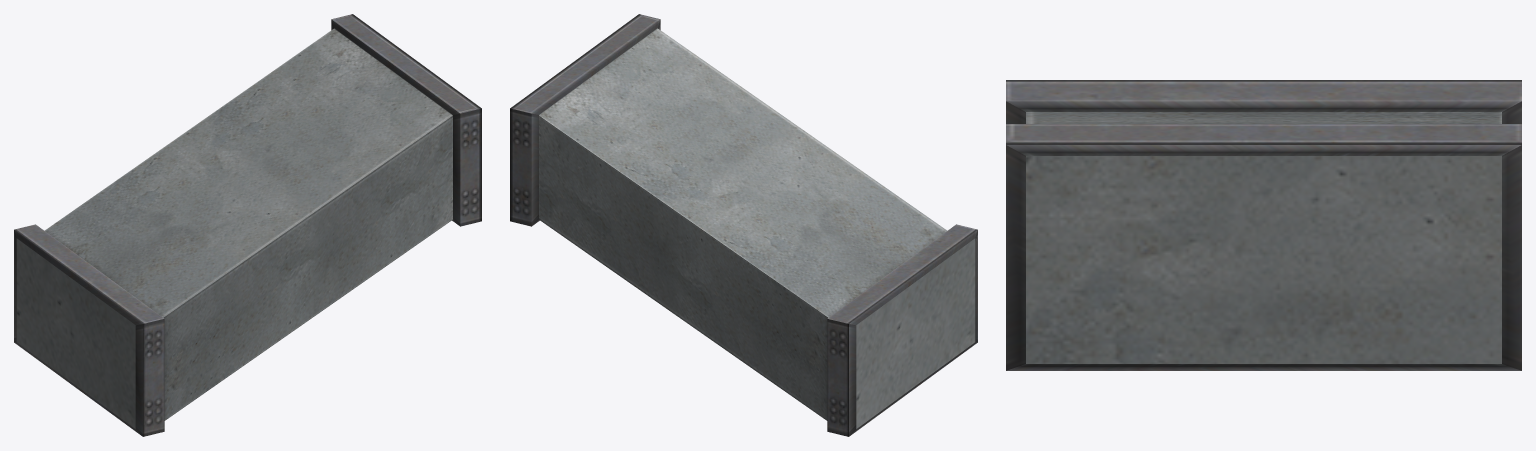
Rendered from Ventilation_pipe_E.FBX.
The picture shows the model from 3 angles, left to right: view 1: azimuth 30°, elevation 25°; view 2: azimuth 150°, elevation 25°; view 3: azimuth 270°, elevation 25°; orthographic projection. The views are drawn at different scales.
Visible parts, largest first — view 1: Ventilation_pipe_E; view 2: Ventilation_pipe_E; view 3: Ventilation_pipe_E.
Part boxes in pixels (<box>): Ventilation_pipe_E: <box>14,14,481,436</box>; Ventilation_pipe_E: <box>510,14,977,436</box>; Ventilation_pipe_E: <box>1006,80,1521,370</box>.
Size of the model in its own units: 79.88 by 52.01 by 54.7.
Materials: 1 (1 with a texture image).
